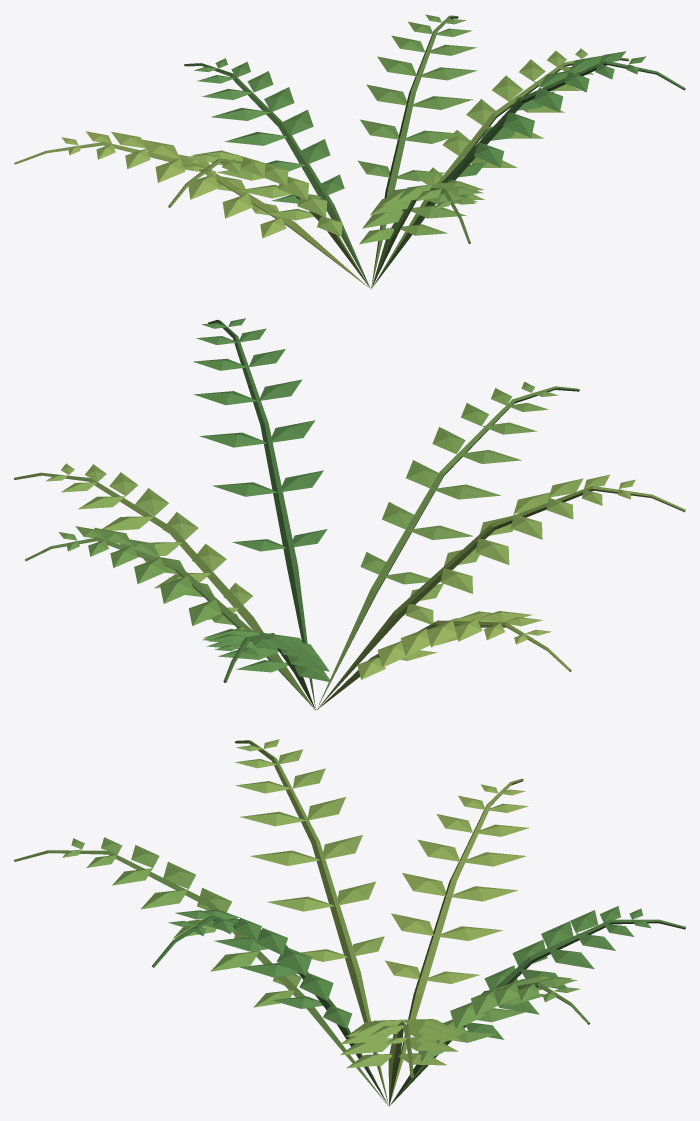
Rendered from t_fern.glb.
3 renders of one model, top to bottom at view 1: azimuth 30°, elevation 25°; view 2: azimuth 150°, elevation 25°; view 3: azimuth 270°, elevation 25°, orthographic. The views are drawn at different scales.
Parts seen in each view (by area): view 1: t_fern_mesh; view 2: t_fern_mesh; view 3: t_fern_mesh.
Boxes of the visible parts, bbox=[...] form: t_fern_mesh: bbox=[14, 14, 685, 289]; t_fern_mesh: bbox=[14, 318, 685, 710]; t_fern_mesh: bbox=[14, 739, 685, 1106].
Size of the model in its own units: 1.18 by 0.5 by 1.11.
Materials: 1 (1 with a texture image).
